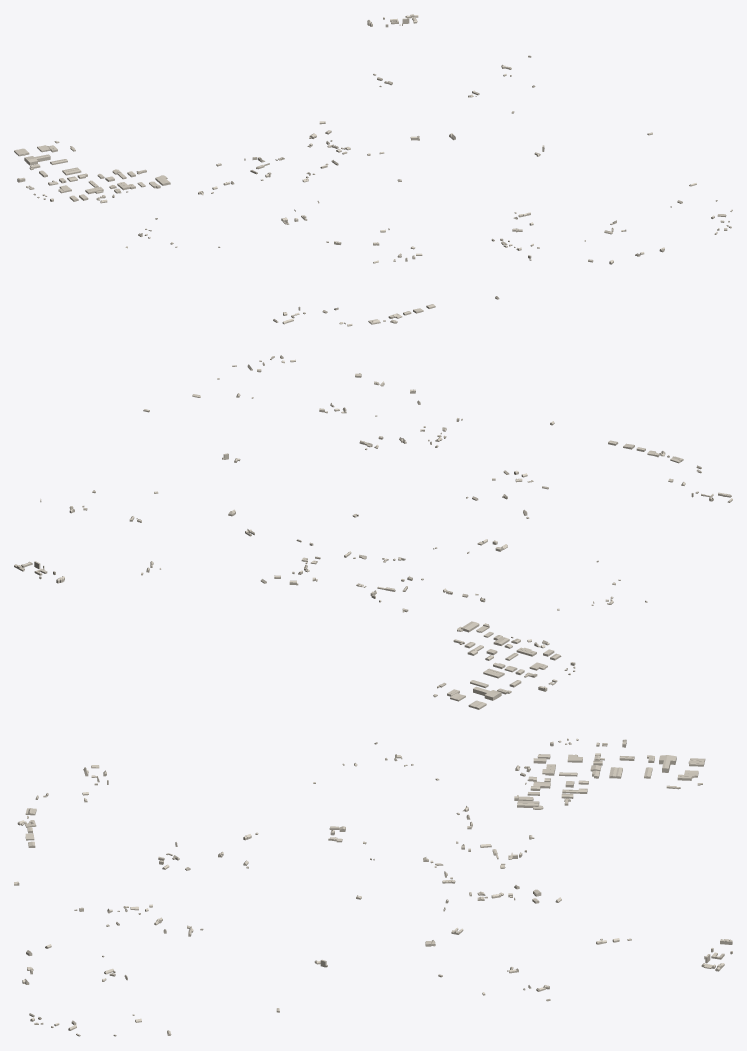
3 views of the same model, one above another, from view 1: azimuth 30°, elevation 25°; view 2: azimuth 150°, elevation 25°; view 3: azimuth 270°, elevation 25° (orthographic). The views are drawn at different scales.
Size of the model in its own units: 1800 by 125 by 1784.
